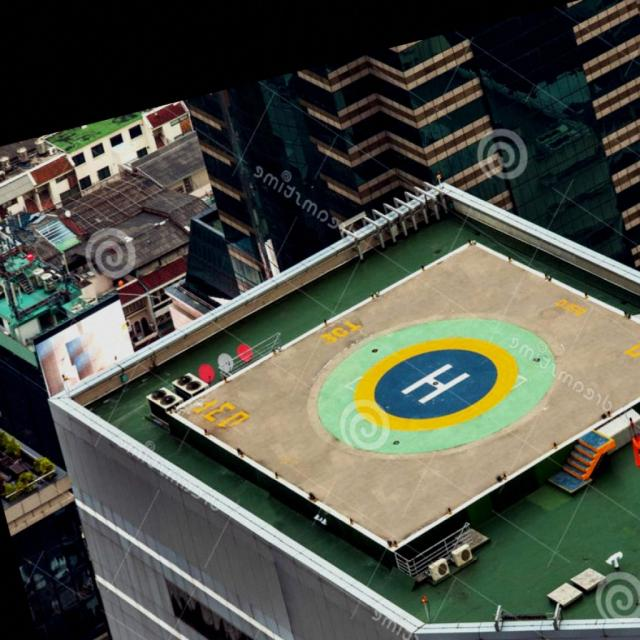helipad: (349, 334, 522, 435)
